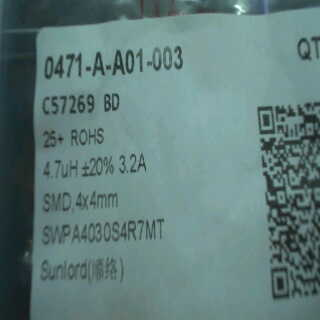4.7uH: (39, 156, 82, 180)
